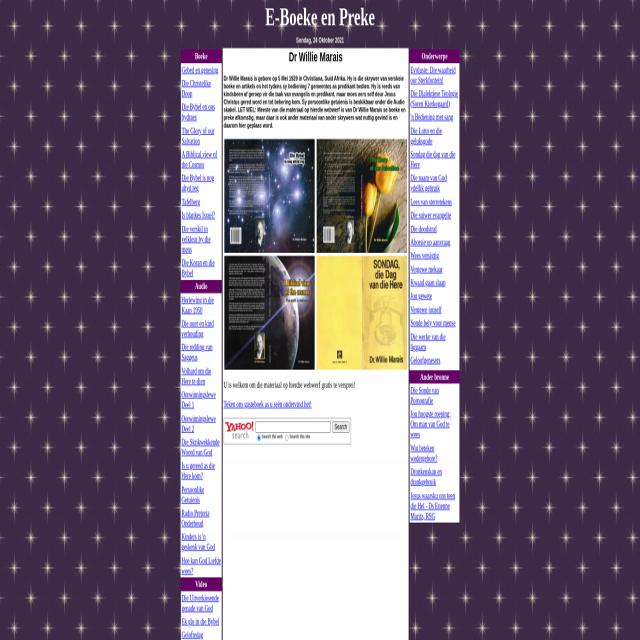button: (316, 139, 407, 253), (316, 256, 407, 370), (224, 139, 314, 253), (224, 256, 314, 370), (224, 422, 254, 438), (332, 421, 349, 433)
field: (256, 421, 330, 433), (285, 433, 310, 441), (257, 434, 282, 442)
